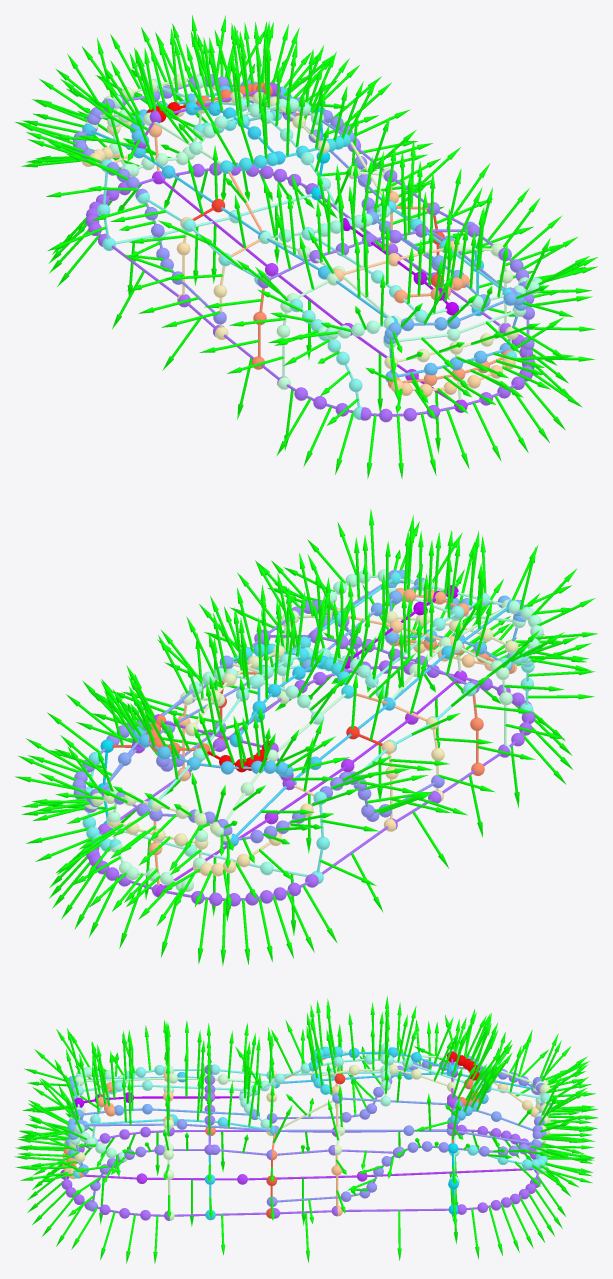
File: t2f_car_97.gltf
The picture shows the model from 3 angles, top to bottom: view 1: azimuth 30°, elevation 25°; view 2: azimuth 150°, elevation 25°; view 3: azimuth 270°, elevation 25°; orthographic projection. The views are drawn at different scales.
Size of the model in its own units: 0.5739 by 0.4444 by 1.09.
